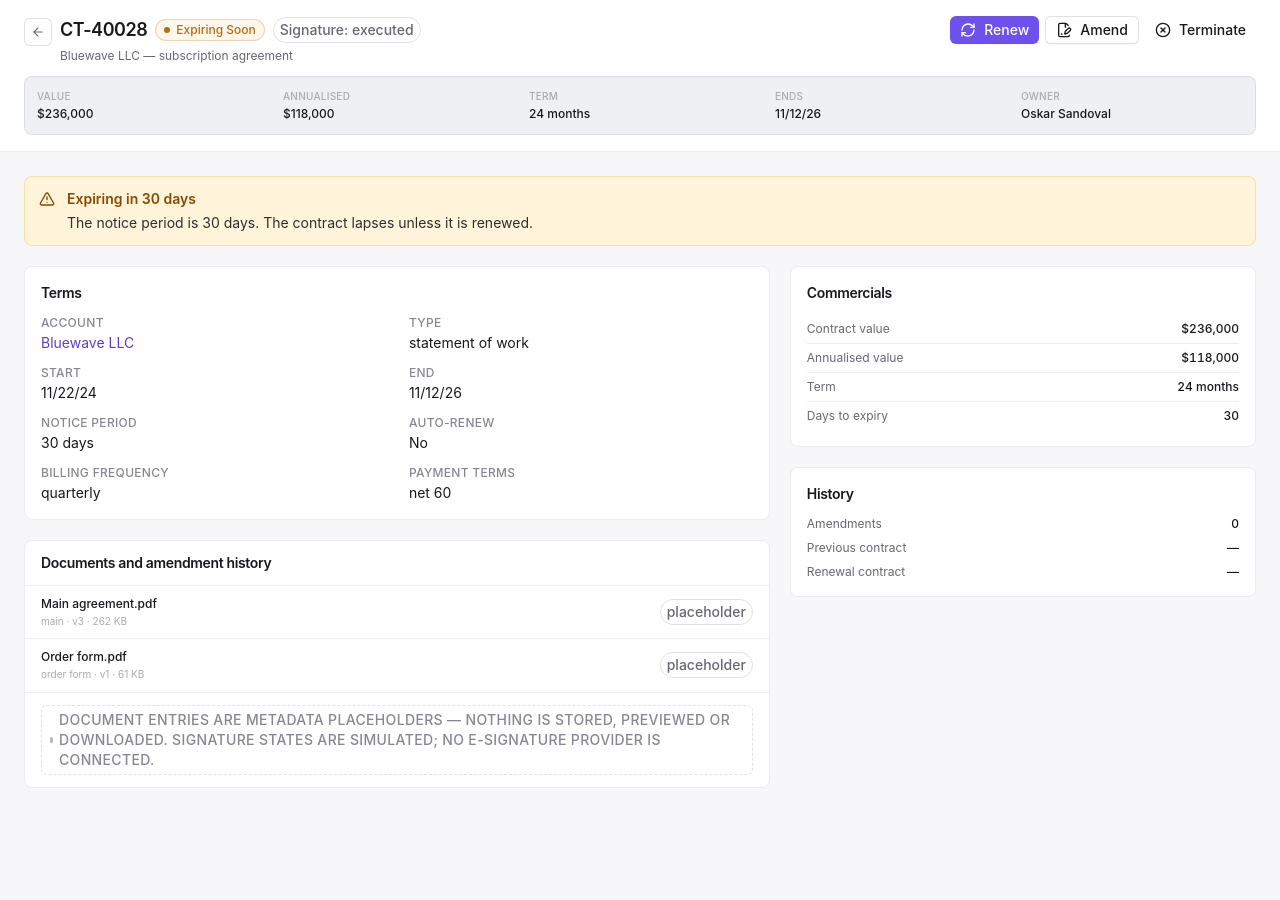
Scenario: ContractDetail lifecycle writes › creates a linked renewal through the dialog and closes the original
This screenshot has width=1280, height=900.
Click the button "Renew": (995, 30) [950,16,1039,44]
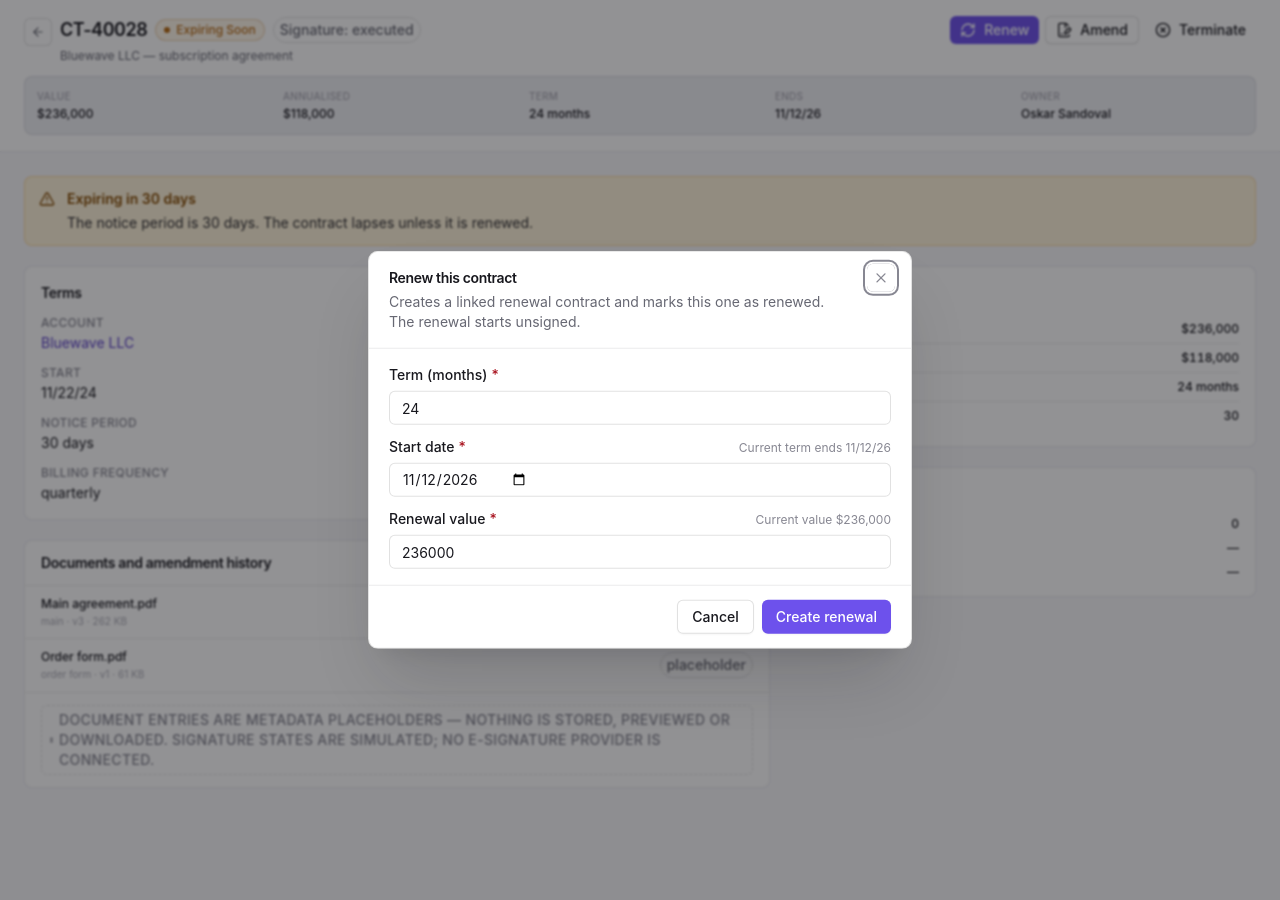
Check: the heading "Renew this contract" is shown, box [389,269,517,286]
Click the button "Create renewal": (826, 617) [762,600,891,634]
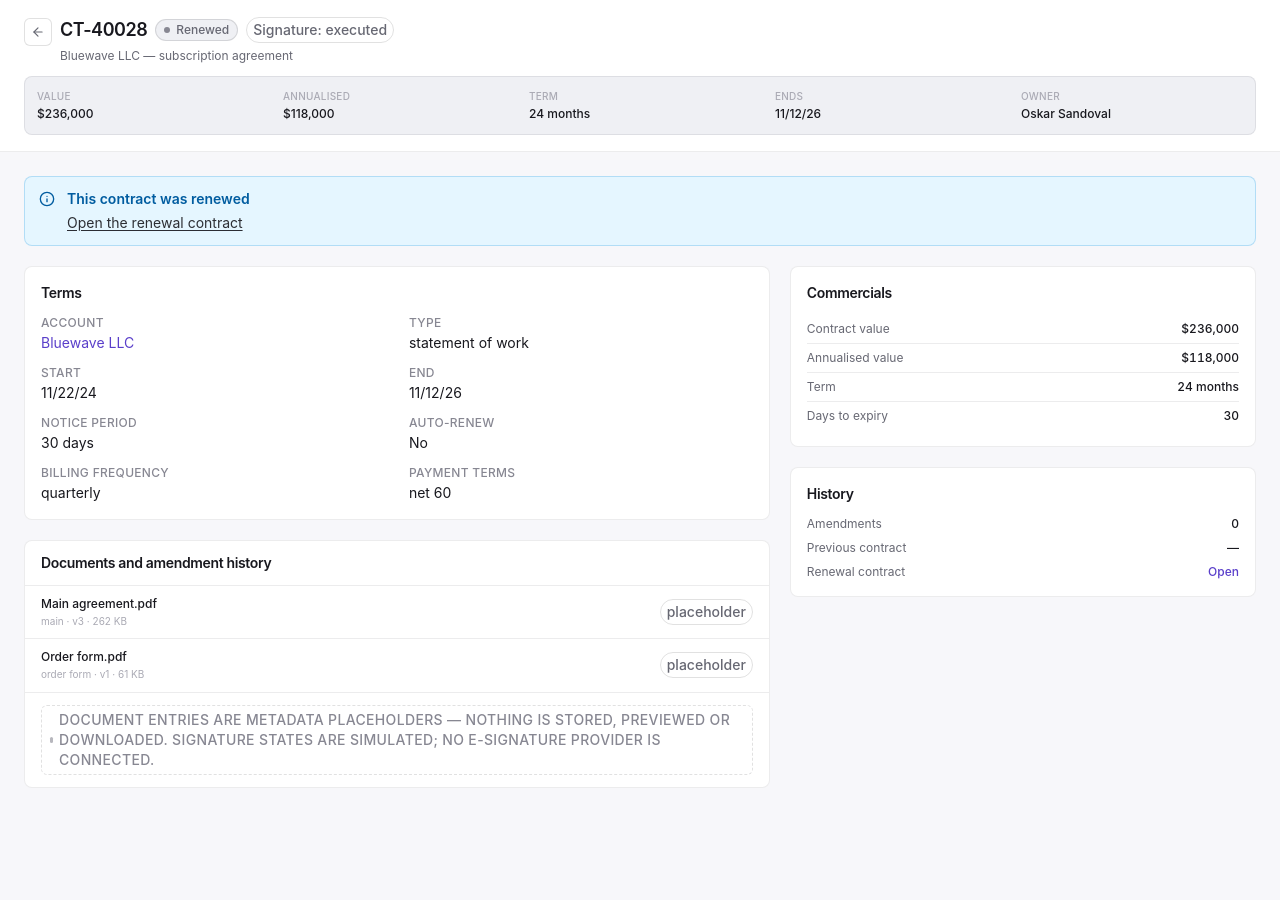
Check: the text "This contract was renewed" is shown, box [67,190,250,206]
